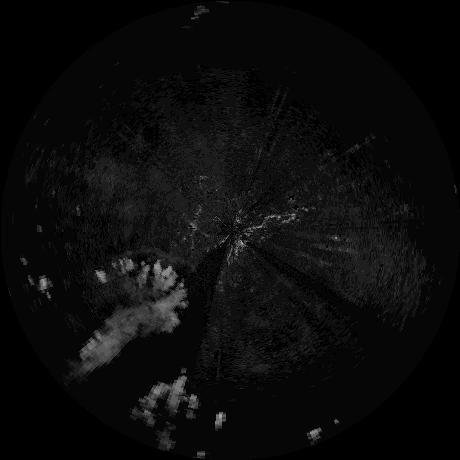frontgust: (131, 245, 198, 267)
